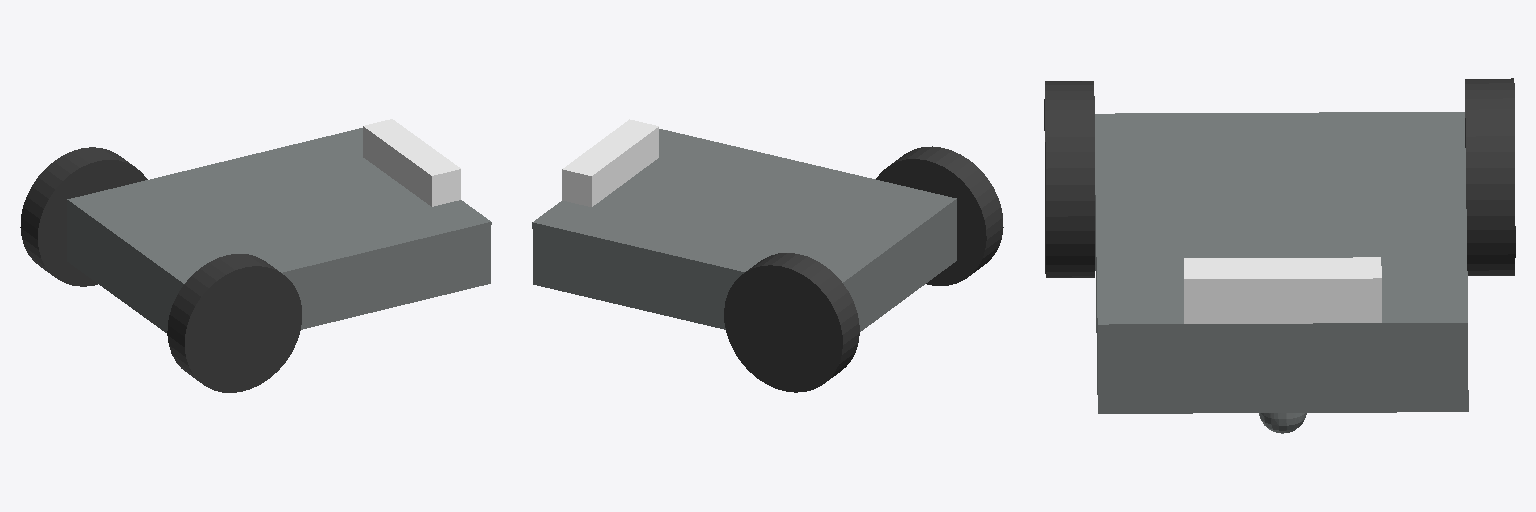
URDF robot description (warehouse_bot):
<?xml version="1.0"?>
<robot name="warehouse_bot">
  <link name="base_link">
    <inertial>
      <origin xyz="-0.0018352 0.01879 0.0015304" rpy="0 0 0" />
      <mass value="9.407" />
      <inertia ixx="0.018872" ixy="0.00022521" ixz="9.6344E-05" iyy="0.049055" iyz="3.4243E-05" izz="0.032751" />
    </inertial>
    <visual>
      <origin xyz="0 0 0" rpy="0 0 0" />
      <geometry>
        <mesh filename="package://warehouse_bot_package/meshes/base_link.STL" />
      </geometry>
      <material name=""><color rgba="0.52941 0.54902 0.54902 1" /></material>
    </visual>
    <collision>
      <origin xyz="0 0 0" rpy="0 0 0" />
      <geometry>
        <mesh filename="package://warehouse_bot_package/meshes/base_link.STL" />
      </geometry>
    </collision>
  </link>

  <link name="right_wheel_link">
    <inertial>
      <origin xyz="7.4065E-05 -2.3548E-05 0.010725" rpy="0 0 0" />
      <mass value="0.10053" />
      <inertia ixx="4.3565E-05" ixy="-5.5889E-10" ixz="2.5455E-07" iyy="4.3564E-05" iyz="-8.093E-08" izz="8.0423E-05" />
    </inertial>
    <visual>
      <origin xyz="0 0 0" rpy="0 0 0" />
      <geometry>
        <mesh filename="package://warehouse_bot_package/meshes/right_wheel_link.STL" />
      </geometry>
      <material name=""><color rgba="0.29804 0.29804 0.29804 1" /></material>
    </visual>
    <collision>
      <origin xyz="0 0 0" rpy="0 0 0" />
      <geometry>
        <mesh filename="package://warehouse_bot_package/meshes/right_wheel_link.STL" />
      </geometry>
    </collision>
  </link>

  <joint name="right_wheel_joint" type="continuous">
    <origin xyz="-0.081593 -0.076359 0.019117" rpy="1.5665 0.60366 3.1388E-05" />
    <parent link="base_link" />
    <child link="right_wheel_link" />
    <axis xyz="-0.0069057 0.0021956 -0.99997" />
  </joint>

  <link name="left_wheel_link">
    <inertial>
      <origin xyz="-7.6093E-05 2.4193E-05 -0.011019" rpy="0 0 0" />
      <mass value="0.10053" />
      <inertia ixx="4.3565E-05" ixy="-5.5889E-10" ixz="2.5455E-07" iyy="4.3564E-05" iyz="-8.093E-08" izz="8.0423E-05" />
    </inertial>
    <visual>
      <origin xyz="0 0 0" rpy="0 0 0" />
      <geometry>
        <mesh filename="package://warehouse_bot_package/meshes/left_wheel_link.STL" />
      </geometry>
      <material name=""><color rgba="0.29804 0.29804 0.29804 1" /></material>
    </visual>
    <collision>
      <origin xyz="0 0 0" rpy="0 0 0" />
      <geometry>
        <mesh filename="package://warehouse_bot_package/meshes/left_wheel_link.STL" />
      </geometry>
    </collision>
  </link>

  <joint name="left_wheel_joint" type="continuous">
    <origin xyz="-0.082616 0.071893 0.019443" rpy="1.6124 -1.3647 -0.037354" />
    <parent link="base_link" />
    <child link="left_wheel_link" />
    <axis xyz="0.0069057 -0.0021956 0.99997" />
  </joint>

  <link name="lidar_link">
    <inertial>
      <origin xyz="0.078294 0.048464 0.039704" rpy="0 0 0" />
      <mass value="0.03424" />
      <inertia ixx="1.9402E-05" ixy="2.5957E-10" ixz="-1.1822E-07" iyy="1.9403E-05" iyz="3.7587E-08" izz="2.2836E-06" />
    </inertial>
    <visual>
      <origin xyz="0 0 0" rpy="0 0 0" />
      <geometry>
        <mesh filename="package://warehouse_bot_package/meshes/lidar_link.STL" />
      </geometry>
      <material name=""><color rgba="1 1 1 0.65" /></material>
    </visual>
    <collision>
      <origin xyz="0 0 0" rpy="0 0 0" />
      <geometry>
        <mesh filename="package://warehouse_bot_package/meshes/lidar_link.STL" />
      </geometry>
    </collision>
  </link>

  <joint name="lidar_joint" type="fixed">
    <origin xyz="0.0097328 0.038718 3.9147E-05" rpy="1.5708 0 0" />
    <parent link="base_link" />
    <child link="lidar_link" />
    <axis xyz="0.0069057 -0.0021956 0.99997" />
    <limit lower="0" upper="0" effort="0" velocity="0" />
  </joint>

  <gazebo>
    <plugin name="diff_drive" filename="libgazebo_ros_diff_drive.so">
      <left_joint>left_wheel_joint</left_joint>
      <right_joint>right_wheel_joint</right_joint>
      <wheel_separation>0.148</wheel_separation>
      <wheel_diameter>0.042</wheel_diameter>
      <max_wheel_torque>20</max_wheel_torque>
      <max_wheel_acceleration>1.0</max_wheel_acceleration>
      <command_topic>cmd_vel</command_topic>
      <publish_odom>true</publish_odom>
      <publish_odom_tf>true</publish_odom_tf>
      <publish_wheel_tf>true</publish_wheel_tf>
      <odometry_frame>odom</odometry_frame>
      <robot_base_frame>base_link</robot_base_frame>
    </plugin>
  </gazebo>

  <gazebo>
    <plugin name="joint_state" filename="libgazebo_ros_joint_state_publisher.so">
      <joint_name>left_wheel_joint</joint_name>
      <joint_name>right_wheel_joint</joint_name>
    </plugin>
  </gazebo>

</robot>

--- Facts derived from the render (not from the file) ---
The picture shows the robot from 3 angles, left to right: view 1: azimuth 30°, elevation 25°; view 2: azimuth 150°, elevation 25°; view 3: azimuth 270°, elevation 25°; orthographic projection.
Robot: warehouse_bot — 4 links, 3 joints (2 continuous, 1 fixed); root link base_link; default pose: every joint at zero.
Links seen in each view (by area): view 1: base_link, right_wheel_link, left_wheel_link, lidar_link; view 2: base_link, left_wheel_link, right_wheel_link, lidar_link; view 3: base_link, lidar_link, right_wheel_link, left_wheel_link.
Link boxes in pixels (box(x1,y1,x2,y2)): base_link: box(67, 128, 491, 332); right_wheel_link: box(167, 254, 301, 392); left_wheel_link: box(20, 147, 147, 286); lidar_link: box(363, 119, 460, 206); base_link: box(532, 129, 956, 331); left_wheel_link: box(724, 253, 859, 392); right_wheel_link: box(876, 146, 1003, 285); lidar_link: box(562, 119, 658, 206); base_link: box(1095, 112, 1468, 433); lidar_link: box(1184, 257, 1381, 323); right_wheel_link: box(1044, 81, 1094, 277); left_wheel_link: box(1465, 78, 1515, 275).
Bounding box of the posed robot: 0.2212 × 0.1906 × 0.0809 m (x, y, z).
Meshes: 4 distinct files referenced, 4 mesh visuals loaded (4 binary STL).
